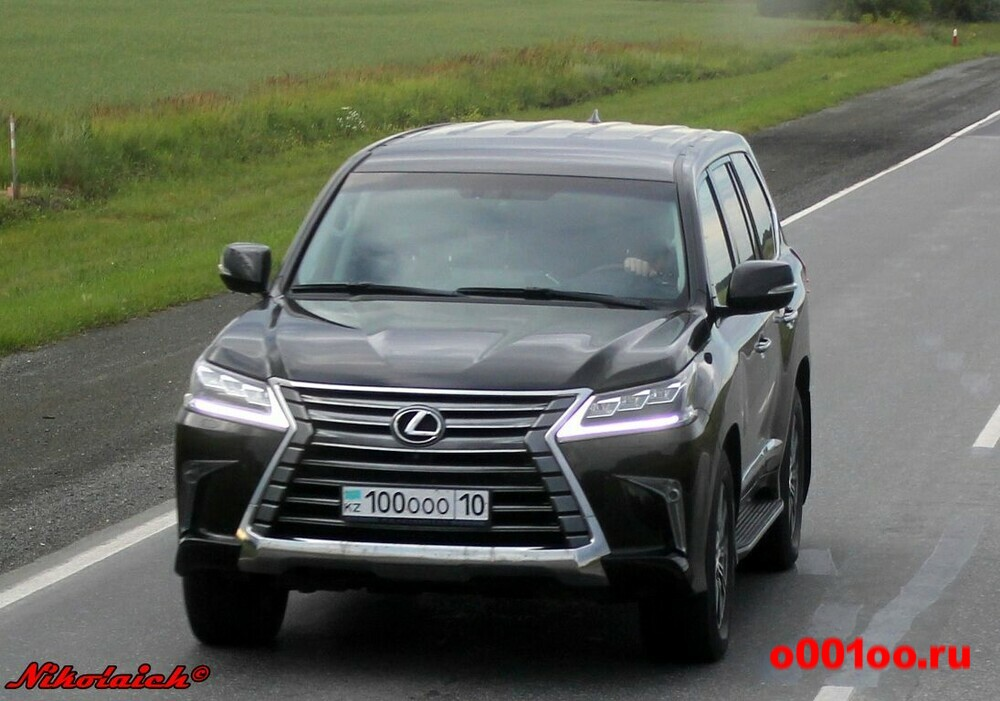license_plate: (343, 484, 490, 523)
